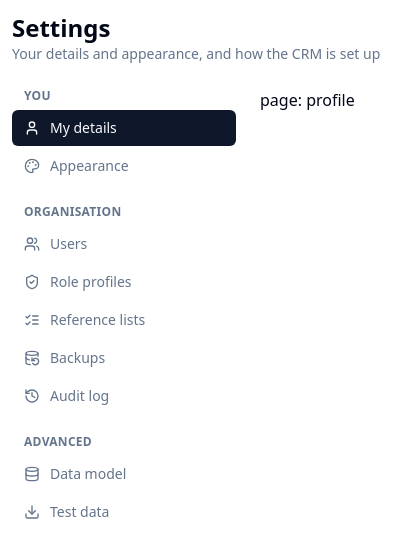
Test: Settings menu › shows one section at a time, and marks the current one
This screenshot has width=397, height=536.
Click the link "Backups". click: (65, 358)
box: [24,348,105,367]
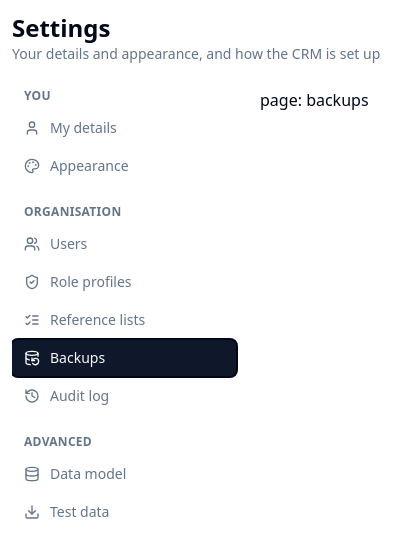
Expected: the text "page: backups" is shown, [260,89,369,111]
Expected: the text "page: profile" is gone
